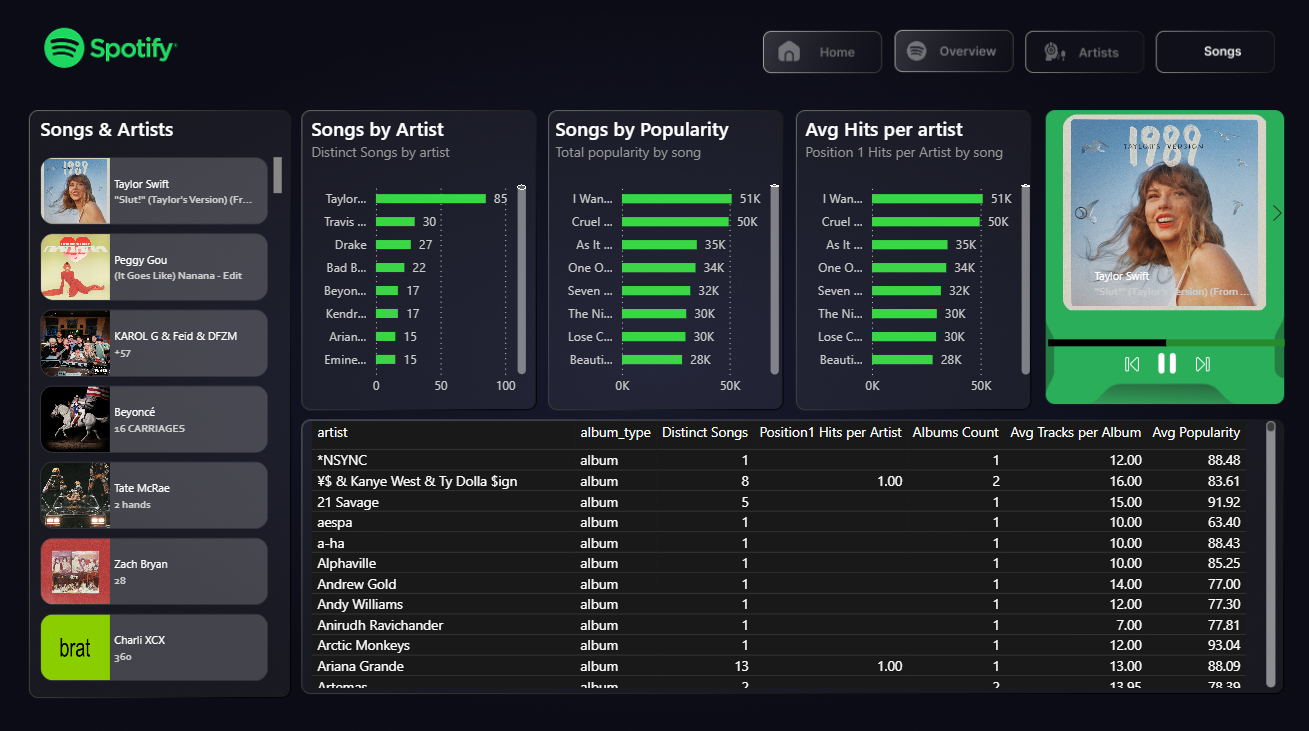

The page's visual inventory and layout, read from the dashboard file:
{"tool":"powerbi","page":{"name":"Songs","canvas":[1280,720],"ordinal":3},"visuals":[{"type":"actionButton","box":[748,35,110.9,39.9],"z":0},{"type":"actionButton","box":[875.4,35,110.9,39.9],"z":1000},{"type":"actionButton","box":[1003.8,35,110.9,39.9],"z":2000},{"type":"actionButton","box":[1130.2,35,110.9,39.9],"z":3000},{"type":"hundredPercentStackedBarChart","fields":{"Y":["_Measures.Avg Popularity Explicit","Avg(Top-50-World.popularity)"]},"box":[1017.4,302.5,240.2,63.2],"z":4000},{"type":"image","box":[1115.6,347.2,44.7,20.4],"z":5000},{"type":"image","box":[1160.4,350.2,25.3,15.6],"z":6000},{"type":"image","box":[1083.5,350.2,40.9,15.6],"z":7000},{"type":"advancedSlicerVisual","title":"Songs & Artists","fields":{"Values":["Top-50-World.song"]},"box":[37,115.7,245.1,562.2],"z":8000},{"type":"shape","box":[1028.1,108.9,212,287.9],"z":9000},{"type":"advancedSlicerVisual","title":"Songs & Artists","fields":{"Values":["Top-50-World.song"],"Label":["_Measures.Avg Popularity"]},"box":[1010.6,108.9,250.9,203.3],"z":10000},{"type":"shape","box":[1033.9,108.9,204.3,287.9],"z":11000},{"type":"tableEx","fields":{"Values":["Top-50-World.artist","Top-50-World.album_type","_Measures.Distinct Songs","Top-50-World.Position1 Hits per Artist","_Measures.Albums Count","_Measures.Avg Tracks per Album","_Measures.Avg Popularity"]},"box":[300.7,408.4,947.8,269.2],"z":12000},{"type":"clusteredBarChart","title":"Songs by Artist","fields":{"Category":["Top-50-World.artist"],"Y":["_Measures.Distinct Songs"]},"box":[300.5,115.7,218.8,281.1],"z":13000},{"type":"clusteredBarChart","title":"Songs by Popularity","fields":{"Category":["Top-50-World.song"],"Y":["Sum(Top-50-World.popularity)"]},"box":[537.4,115.8,227.6,281.4],"z":14000},{"type":"clusteredBarChart","title":"Avg Hits per artist","fields":{"Category":["Top-50-World.song"],"Y":["Sum(Top-50-World.popularity)"]},"box":[781.2,115.8,228.6,281.4],"z":15000}]}

Visuals, with their boxes in screenshot pixels (x1, y1, x2, y2), scaled from the page's 1280x720 canvas onto the 1309x731 screenshot:
actionButton: crop(765, 36, 878, 76)
actionButton: crop(895, 36, 1009, 76)
actionButton: crop(1027, 36, 1140, 76)
actionButton: crop(1156, 36, 1269, 76)
hundredPercentStackedBarChart - _Measures.Avg Popularity Explicit x Avg(Top-50-World.popularity): crop(1040, 307, 1286, 371)
image: crop(1141, 353, 1187, 373)
image: crop(1187, 356, 1213, 371)
image: crop(1108, 356, 1150, 371)
"Songs & Artists" advancedSlicerVisual: crop(38, 117, 288, 688)
shape: crop(1051, 111, 1268, 403)
"Songs & Artists" advancedSlicerVisual: crop(1033, 111, 1290, 317)
shape: crop(1057, 111, 1266, 403)
tableEx - Top-50-World.artist x Top-50-World.album_type: crop(308, 415, 1277, 688)
"Songs by Artist" clusteredBarChart: crop(307, 117, 531, 403)
"Songs by Popularity" clusteredBarChart: crop(550, 118, 782, 403)
"Avg Hits per artist" clusteredBarChart: crop(799, 118, 1033, 403)
